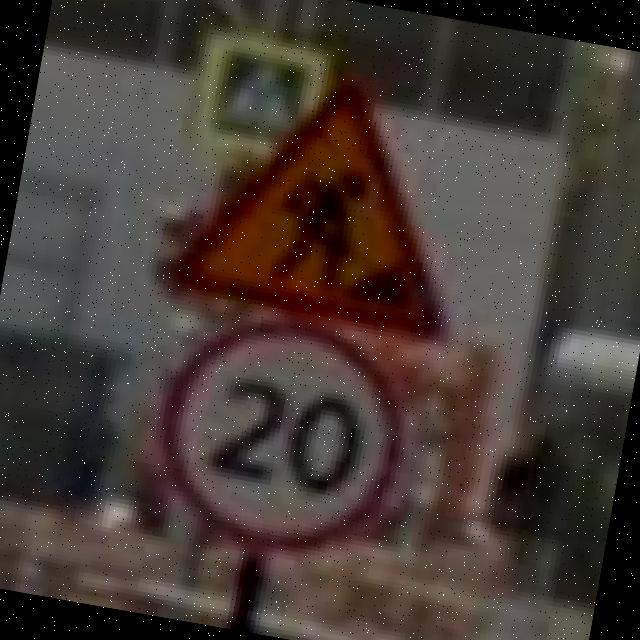Ograniczenie predkosci do 20: (139, 299, 423, 572)
